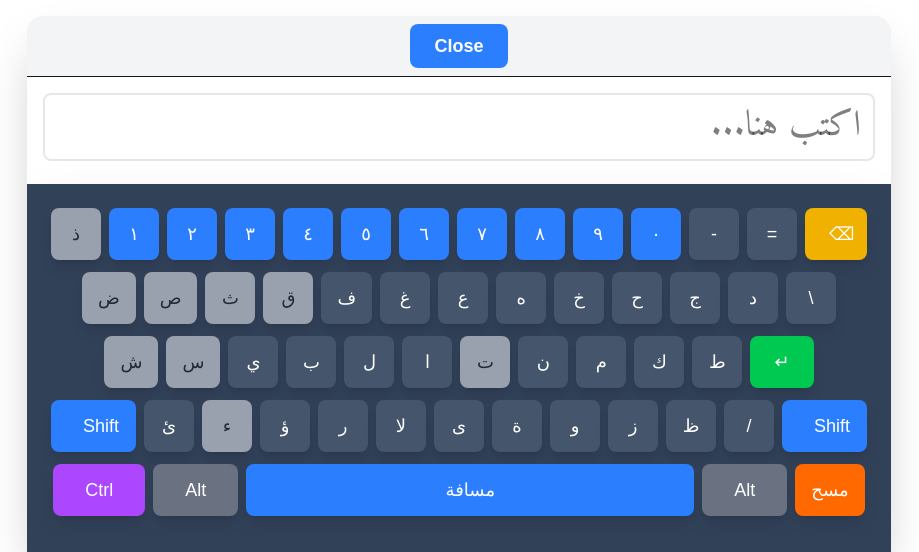
Test: ArabicKeyboard Component › Key Functionality › should delete last character when clicking backspace
The width and height of the screenshot is (919, 552).
# Add some text
Type "مرحبا" into the text box with placeholder "اكتب هنا..." at point(459, 127), box [43,93,875,161]
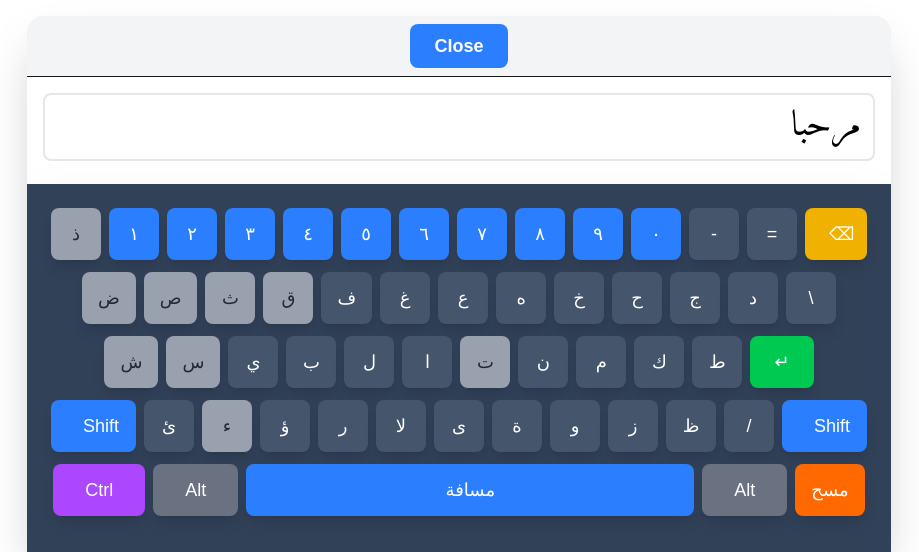
# Click backspace
Click the button "⌫" at point(836, 234), box [805,208,867,260]
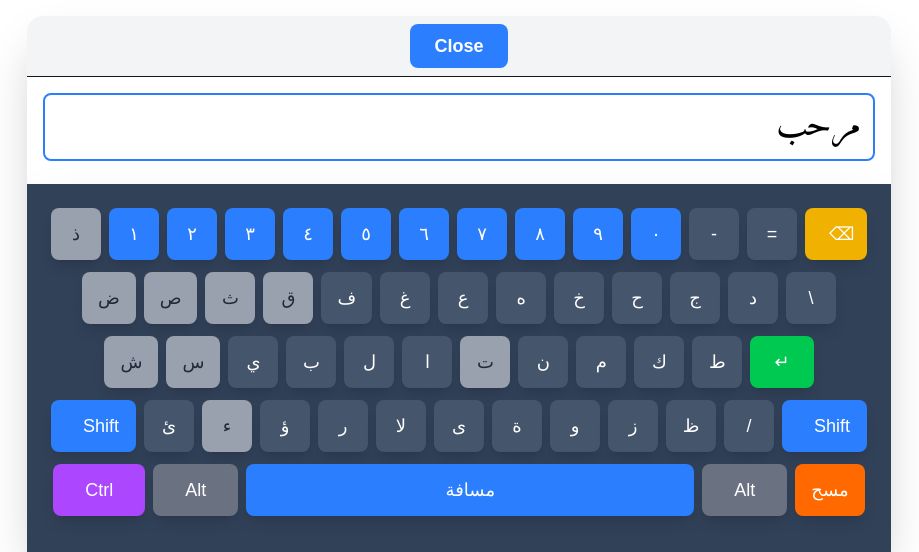
Now the text box with placeholder "اكتب هنا..." holds "مرحب", box [43,93,875,161]
